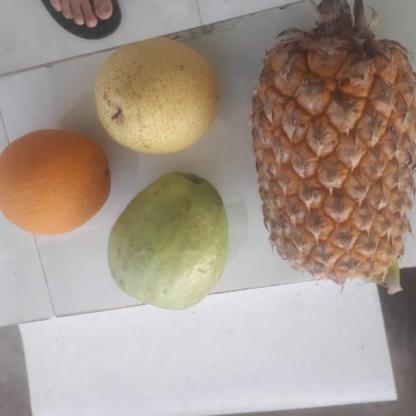guava: (110, 173, 232, 309)
orange: (0, 129, 113, 234)
pear: (90, 39, 224, 154)
pineapple: (260, 30, 416, 278)
